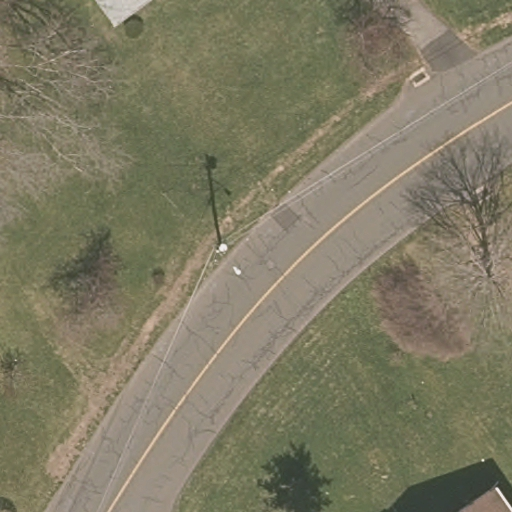DT: (211, 241, 230, 259)
